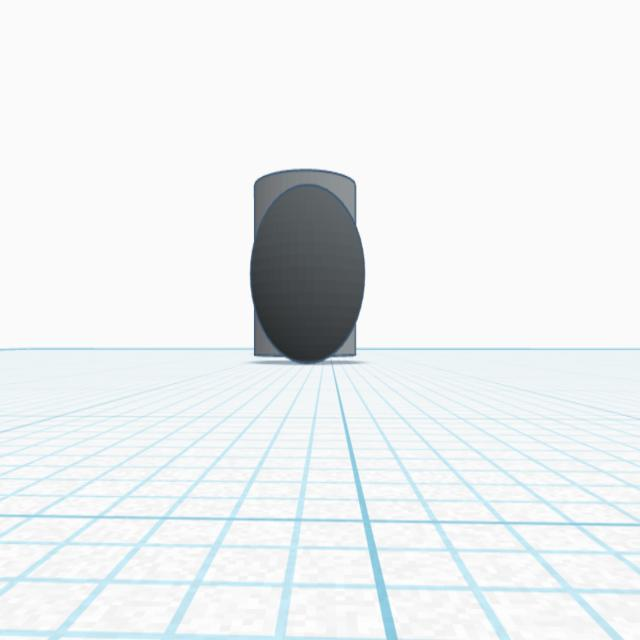sphere: (246, 179, 366, 364)
